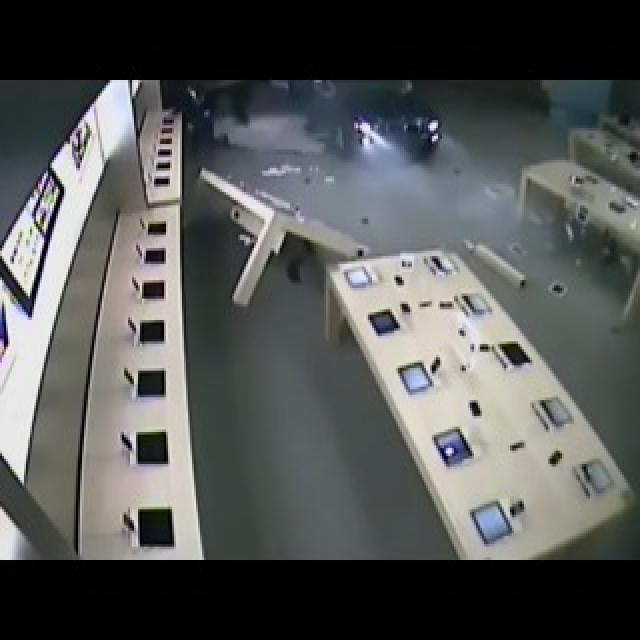burglary: (262, 72, 457, 186)
thief: (177, 86, 230, 153)
